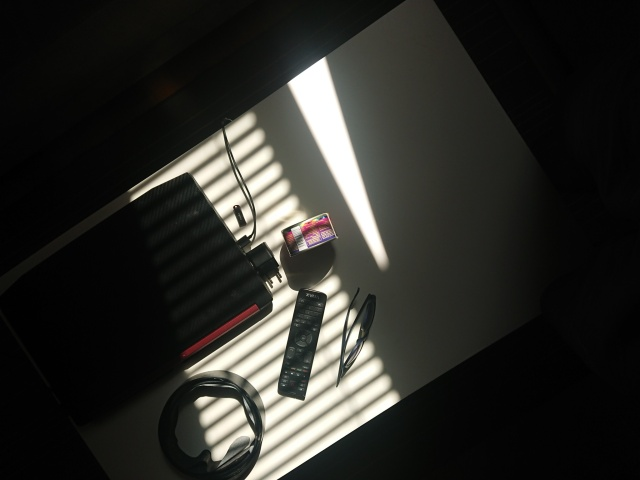Giana Tuna Salad Mexico 185g: (279, 211, 340, 259)
